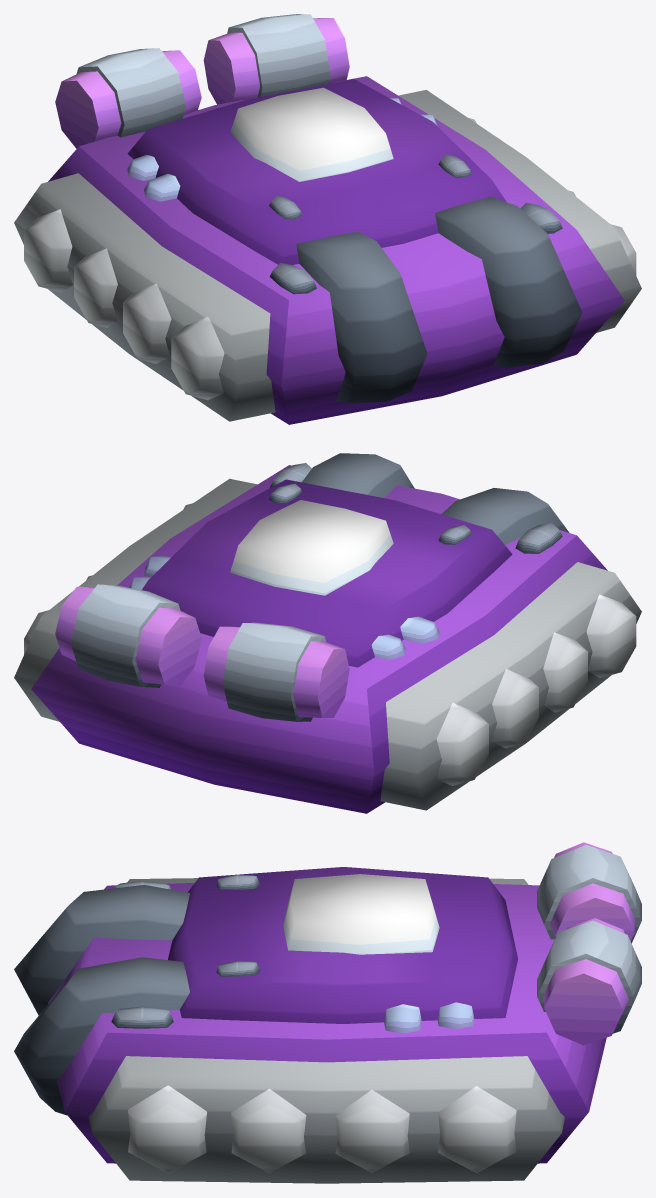
File: tank-body_003.fbx
The picture shows the model from 3 angles, top to bottom: view 1: azimuth 30°, elevation 25°; view 2: azimuth 150°, elevation 25°; view 3: azimuth 270°, elevation 25°; orthographic projection. The views are drawn at different scales.
Parts seen in each view (by area): view 1: tank-body.003; view 2: tank-body.003; view 3: tank-body.003.
Part boxes in pixels (left/top/right/bottom): tank-body.003: left=14, top=14, right=641, bottom=424; tank-body.003: left=14, top=453, right=641, bottom=813; tank-body.003: left=14, top=842, right=641, bottom=1183.
Bounding box in the file's own units: 40.1 × 16.25 × 47.76.
